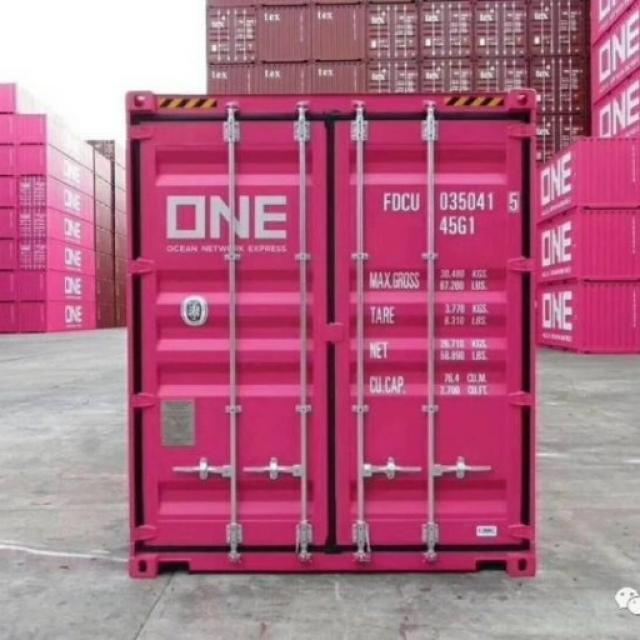ISO: (443, 216, 480, 236)
container_number: (382, 190, 512, 213)
